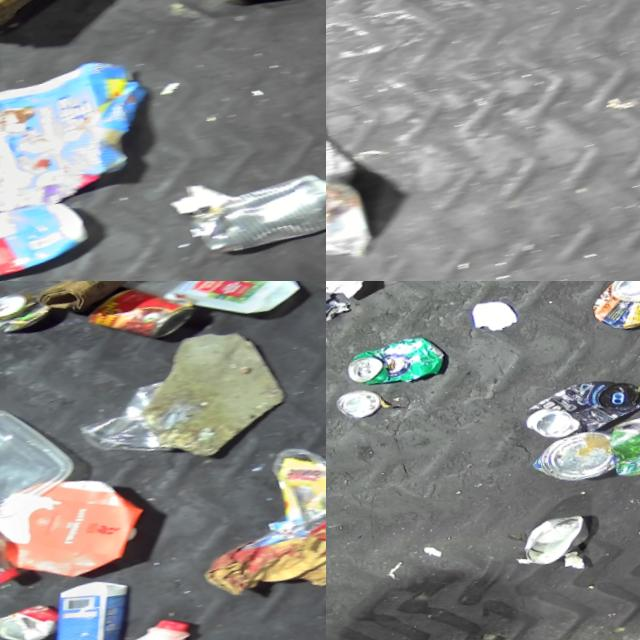can: (187, 142, 326, 264), (519, 358, 640, 446), (76, 281, 203, 354), (343, 323, 453, 396), (529, 415, 623, 489), (517, 501, 599, 568), (0, 594, 69, 640), (584, 281, 640, 332), (605, 400, 640, 474), (336, 381, 388, 423)
non_white_jug: (0, 454, 164, 597), (41, 565, 152, 640), (39, 598, 219, 640)
plastic_bottle: (0, 476, 27, 601)
